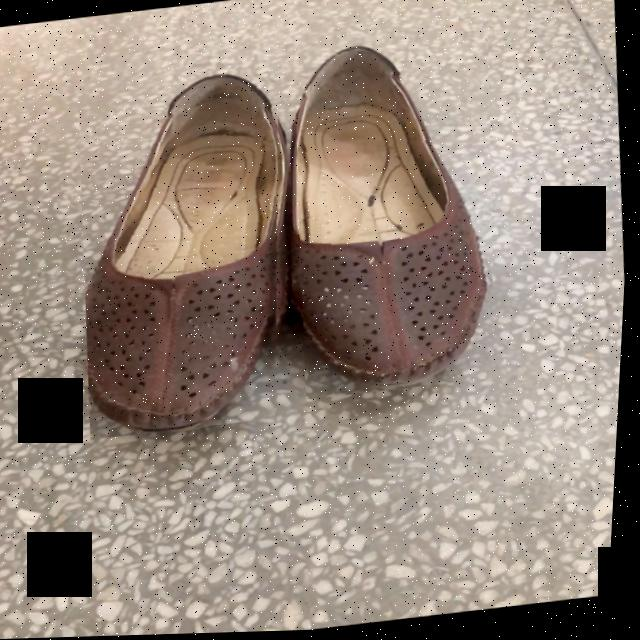shoe: (90, 59, 280, 432), (299, 46, 497, 394)
